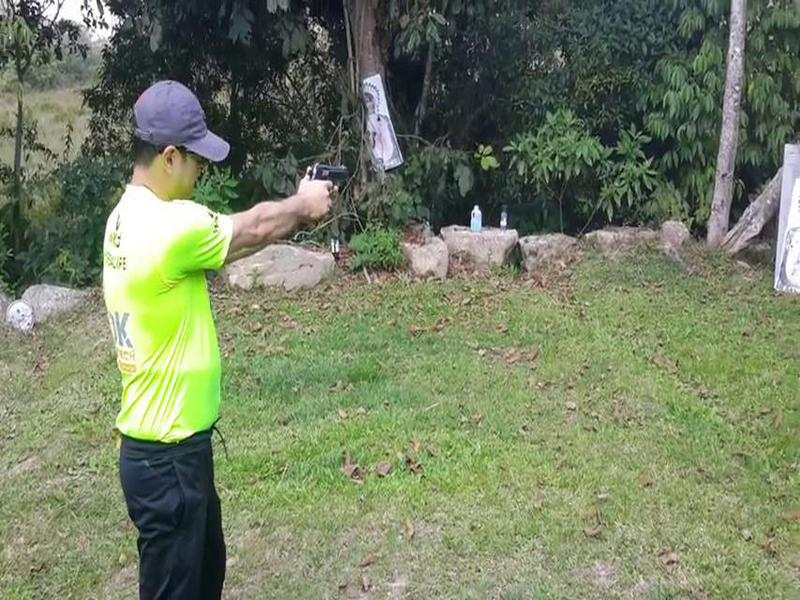Pistola: (296, 149, 360, 211)
